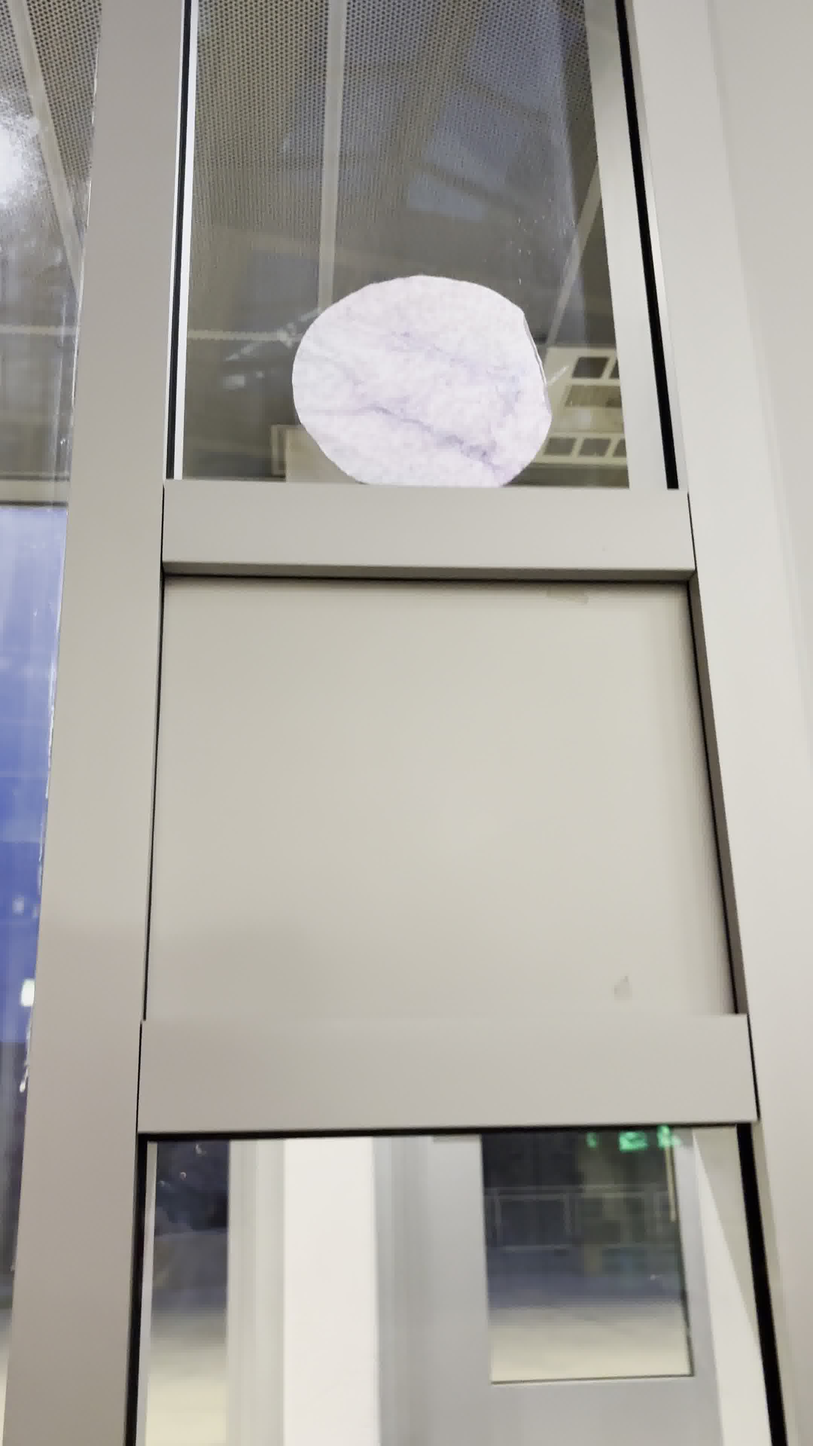Target: (285, 268, 556, 497)
